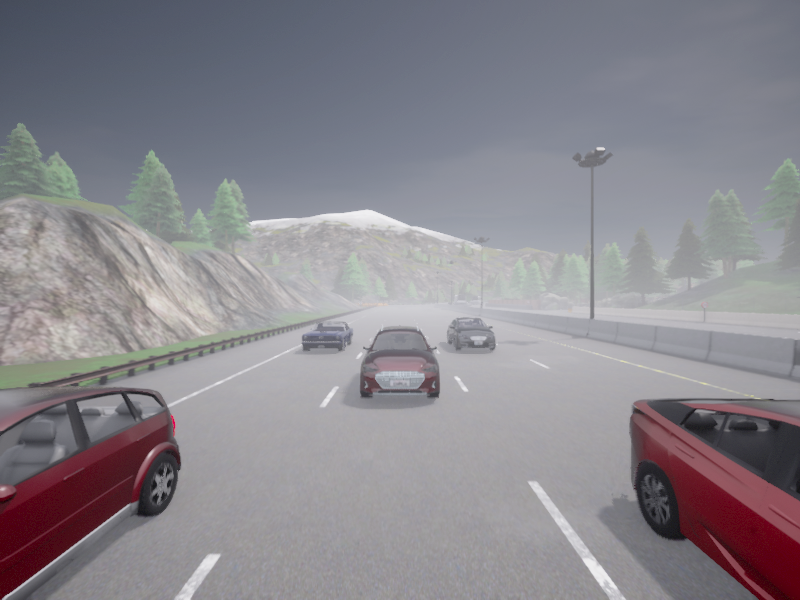vehicle: (0, 386, 180, 599), (629, 398, 799, 599), (360, 325, 439, 397), (447, 317, 495, 350), (301, 321, 352, 351), (453, 295, 465, 305), (472, 296, 483, 304), (472, 297, 484, 300), (466, 302, 470, 306), (448, 301, 453, 304)
